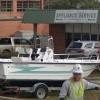Boat: (5, 39, 100, 90)
